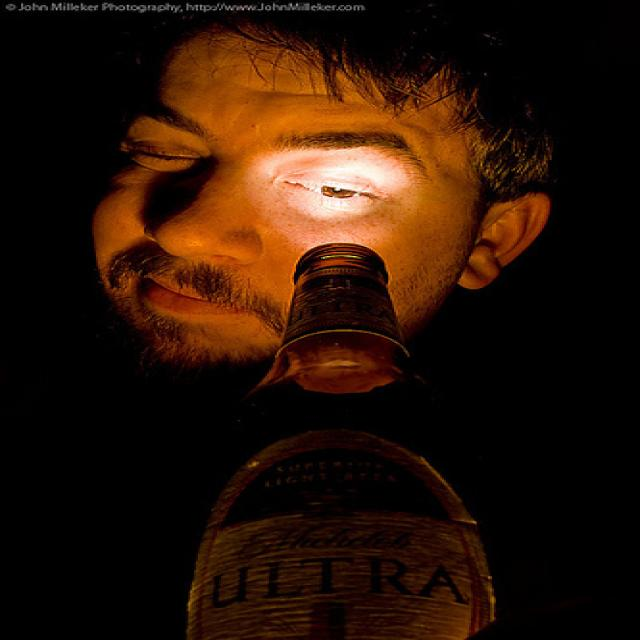Bottle: (225, 209, 488, 640)
People: (123, 0, 532, 452)
